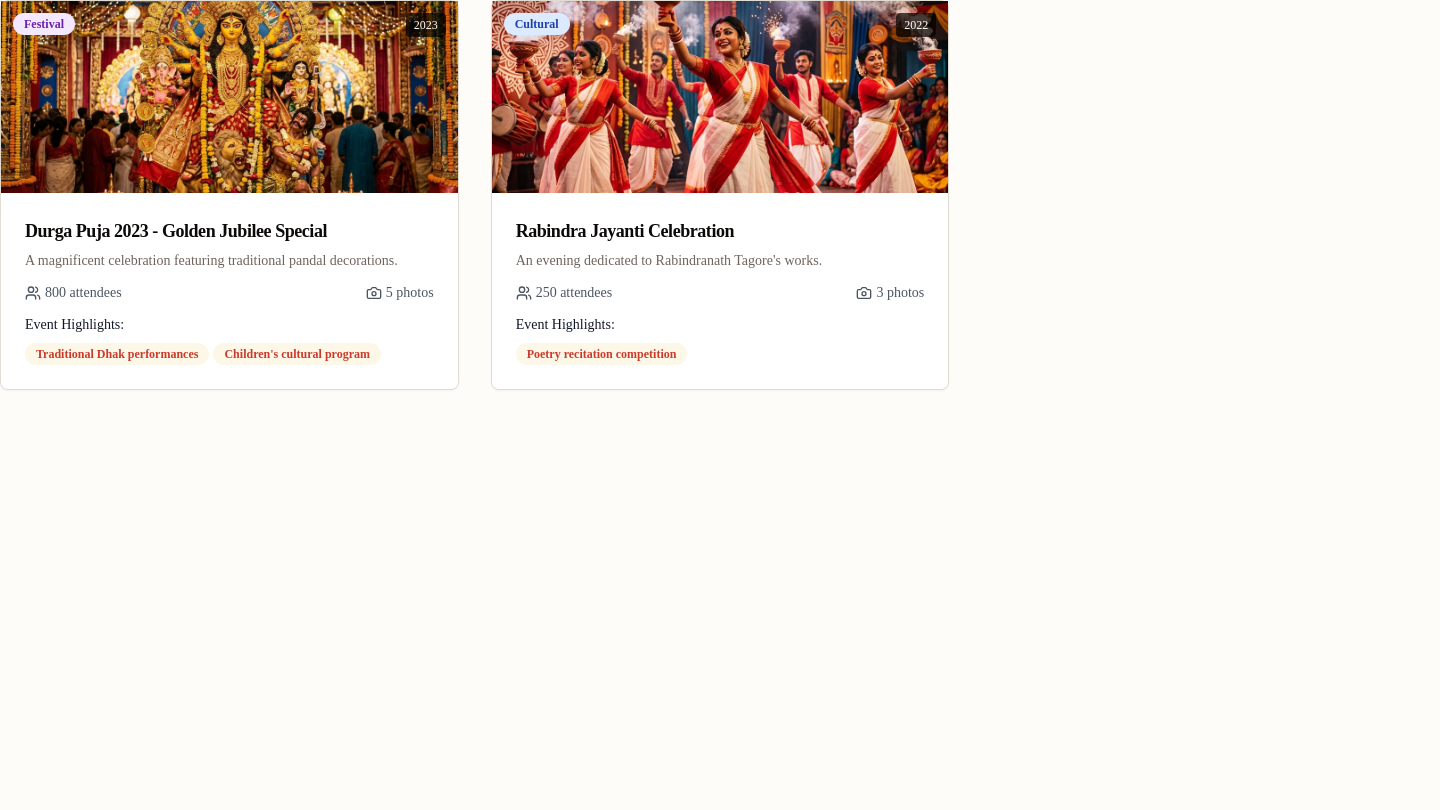
Test: PastYearsGallery Component › opens the photo modal when an event card is clicked
// Click on the first event card
Click the text "Durga Puja 2023 - Golden Jubilee Special". click: (176, 231)
box: x1=25 y1=221 x2=327 y2=241
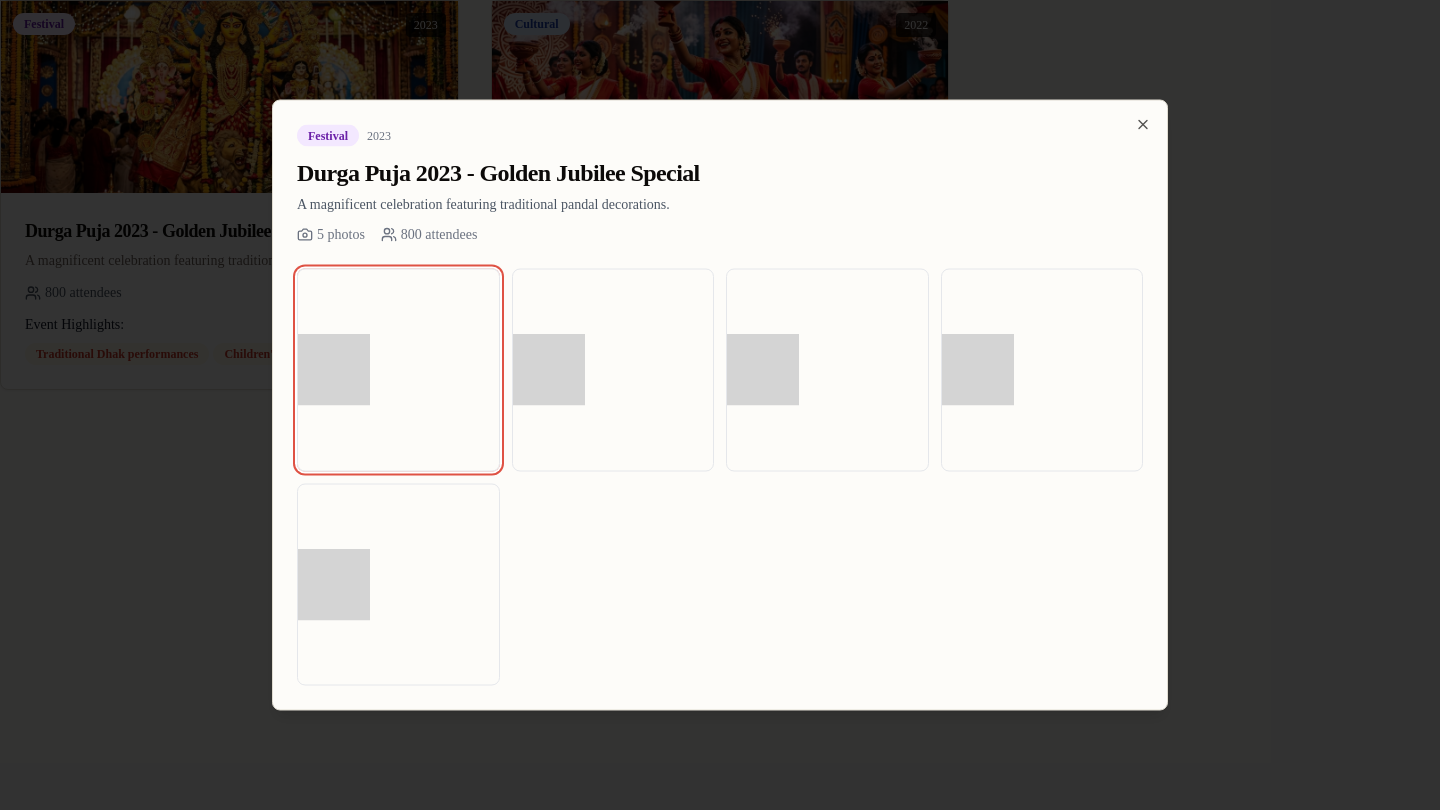
Check: the dialog is shown, box x1=272 y1=100 x2=1168 y2=710
Check: the number of buttons named "Event photo" is 5, box x1=297 y1=268 x2=500 y2=471; x1=512 y1=268 x2=714 y2=471; x1=726 y1=268 x2=928 y2=471; x1=940 y1=268 x2=1143 y2=471; x1=297 y1=483 x2=500 y2=686
